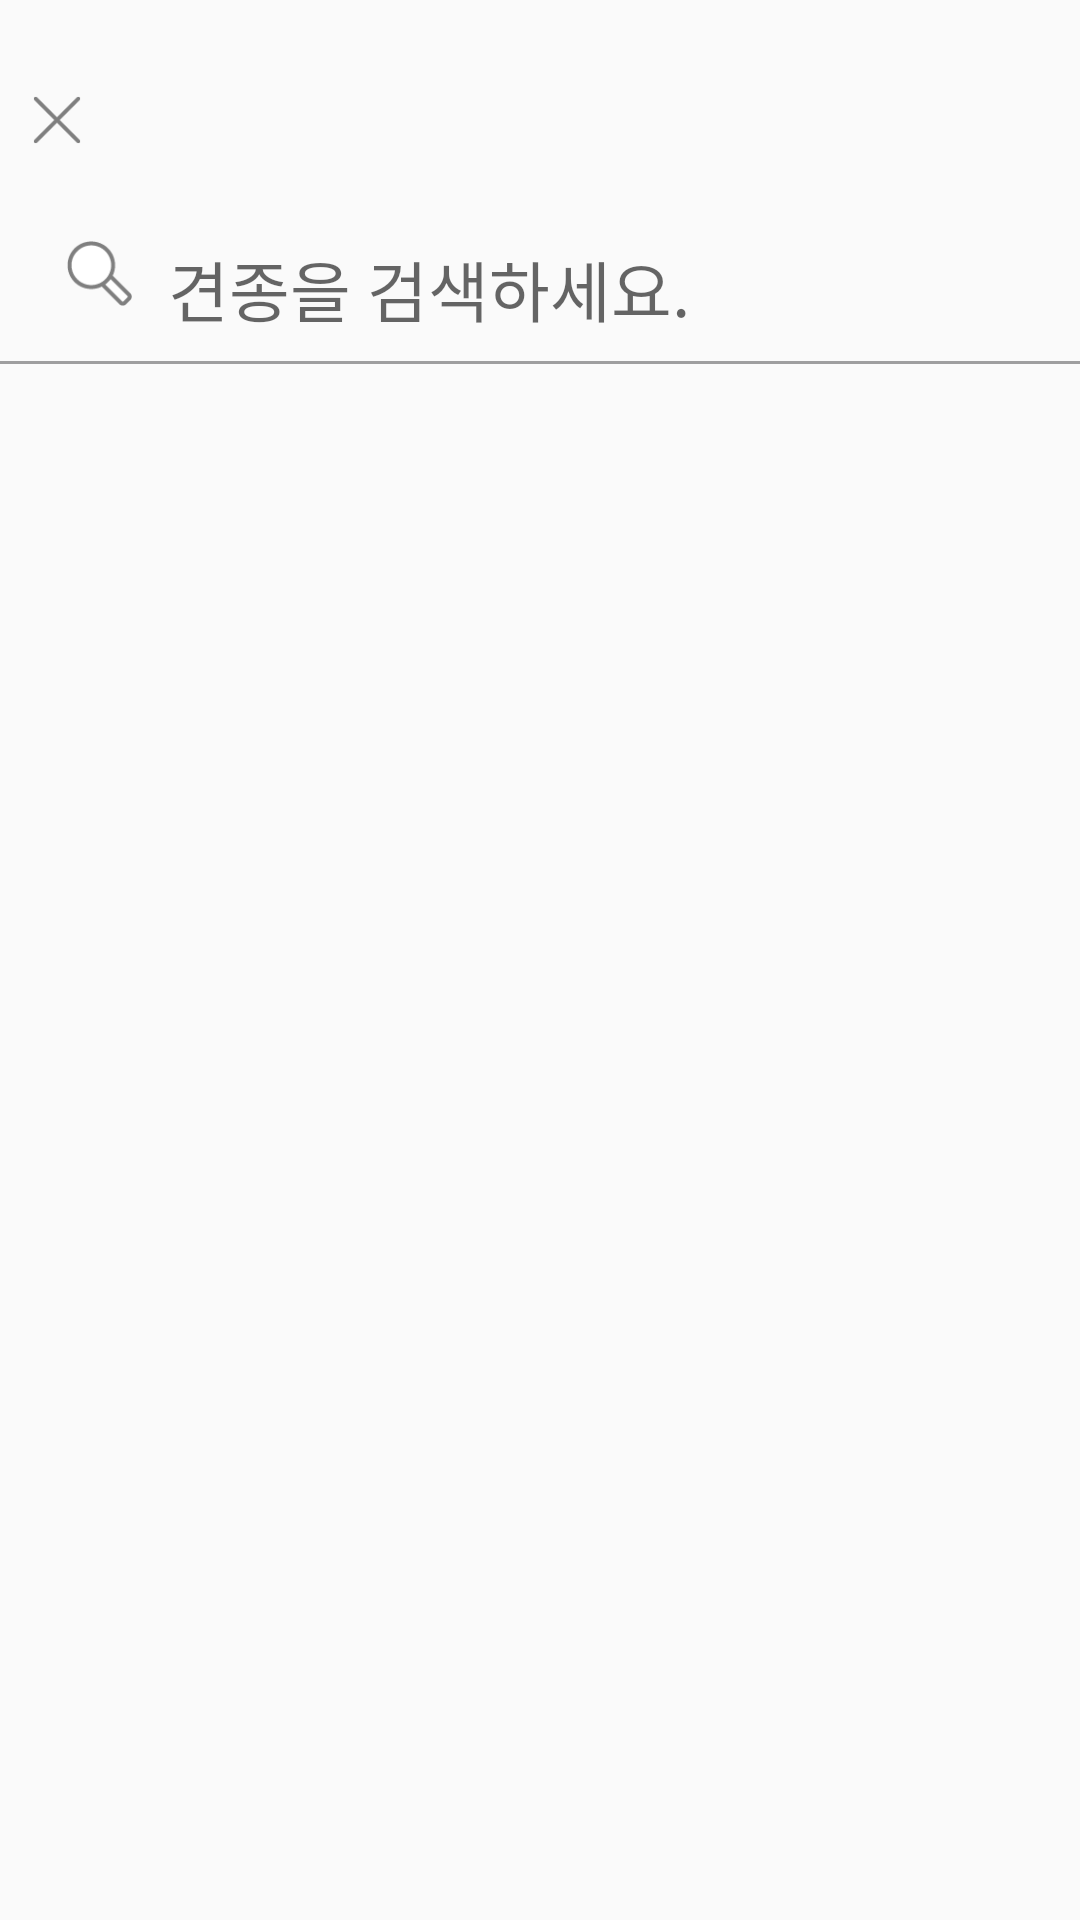

Where to tap for icons on this 1080w x 1920h app screen, as (x,y):
cancel: (57,120)
dog search: (99,273)
